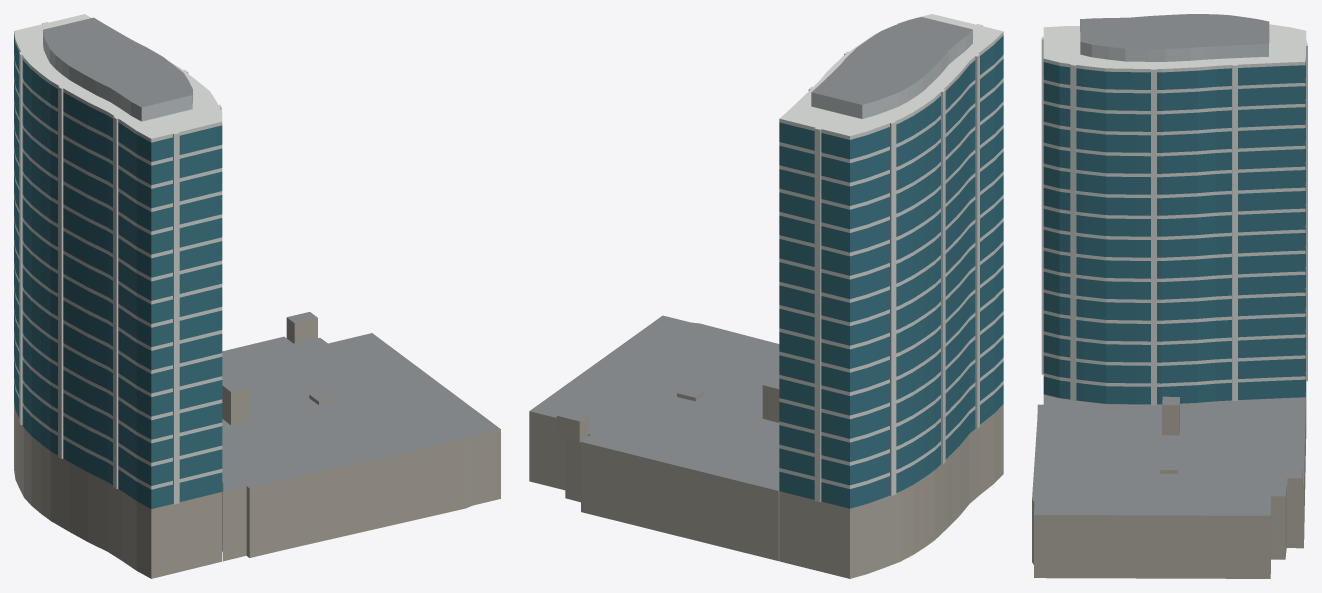
File: panorama_tower_i_w495545498.glb
The picture shows the model from 3 angles, left to right: view 1: azimuth 30°, elevation 25°; view 2: azimuth 150°, elevation 25°; view 3: azimuth 270°, elevation 25°; orthographic projection. The views are drawn at different scales.
Visible parts, largest first — view 1: Tower; view 2: Tower; view 3: Tower.
Boxes of the visible parts, x1,y1,x2,y2 form: Tower: (14,14,500,578); Tower: (529,14,1003,578); Tower: (1032,14,1307,578).
Size of the model in its own units: 102 by 122 by 74.33.
